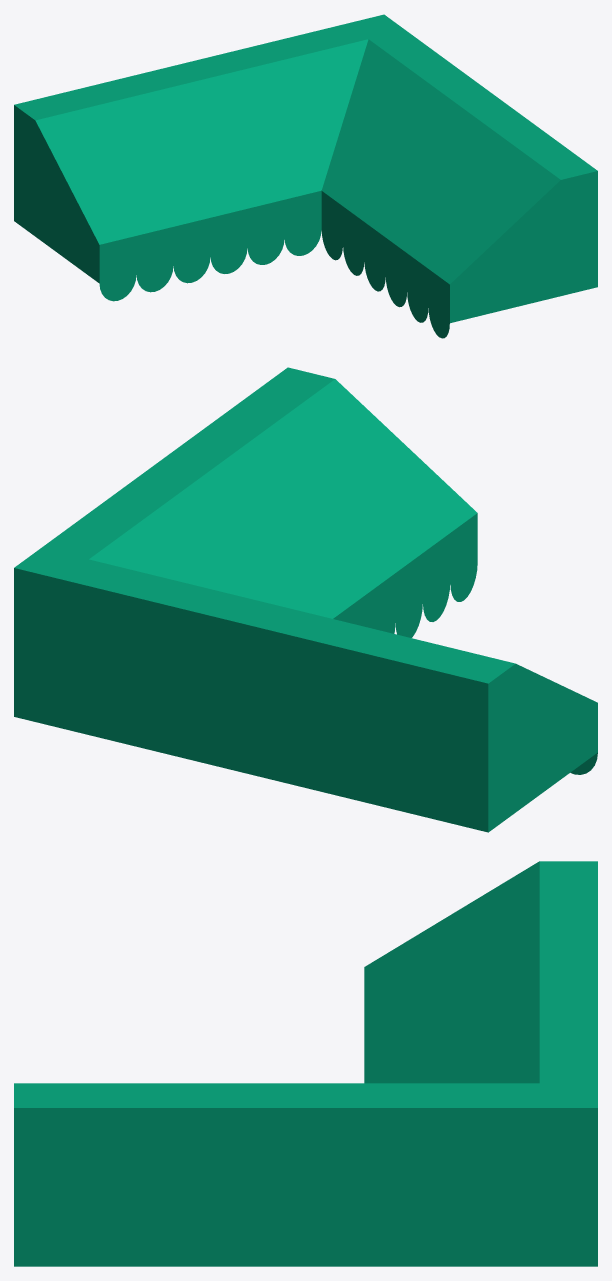
The model's file is awning3.obj.
3 renders of one model, top to bottom at view 1: azimuth 30°, elevation 25°; view 2: azimuth 150°, elevation 25°; view 3: azimuth 270°, elevation 25°, orthographic. The views are drawn at different scales.
Parts seen in each view (by area): view 1: mergedBlocks; view 2: mergedBlocks; view 3: mergedBlocks.
Boxes of the visible parts, x1,y1,x2,y2 form: mergedBlocks: (14, 14, 597, 338); mergedBlocks: (14, 367, 597, 832); mergedBlocks: (14, 861, 597, 1266).
Bounding box in the file's own units: 1 × 0.3561 × 1.
